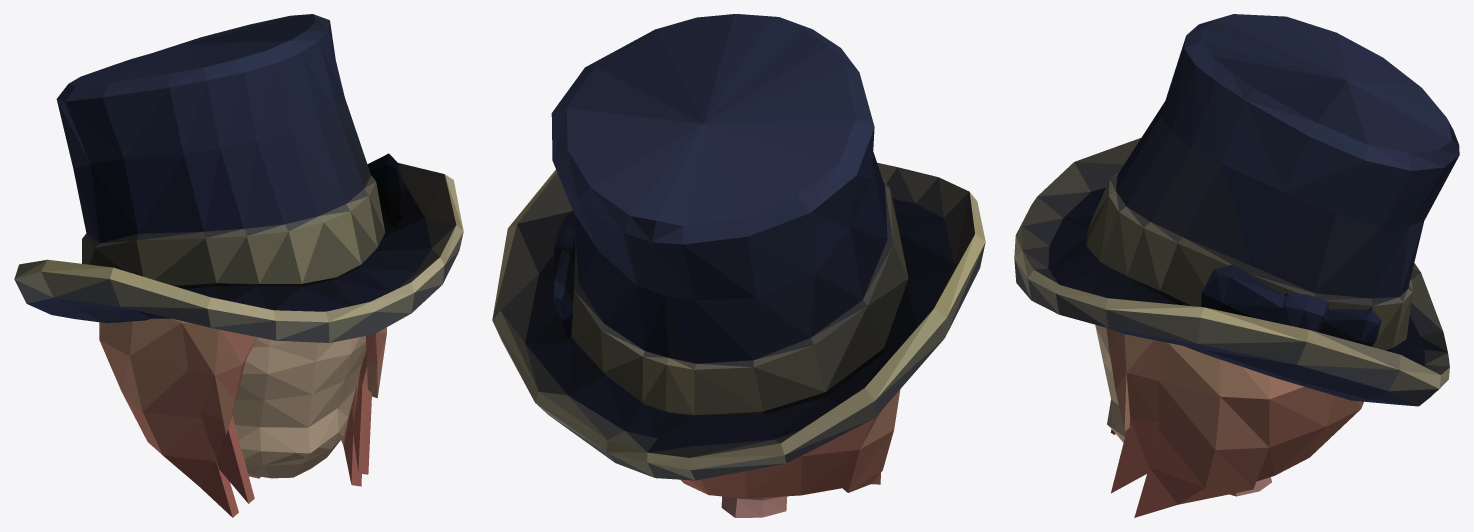
File: helm_lightskin_bob_blonde_tophat.fbx
3 renders of one model, left to right at view 1: azimuth 30°, elevation 25°; view 2: azimuth 150°, elevation 25°; view 3: azimuth 270°, elevation 25°, orthographic. The views are drawn at different scales.
Visible parts, largest first — view 1: helm_lightskin_bob_blonde_tophat; view 2: helm_lightskin_bob_blonde_tophat; view 3: helm_lightskin_bob_blonde_tophat.
Part boxes in pixels (bbox=[...]): helm_lightskin_bob_blonde_tophat: bbox=[14, 14, 463, 517]; helm_lightskin_bob_blonde_tophat: bbox=[492, 14, 985, 517]; helm_lightskin_bob_blonde_tophat: bbox=[1014, 14, 1459, 517].
Bounding box in the file's own units: 1.68 × 1.83 × 1.64.
